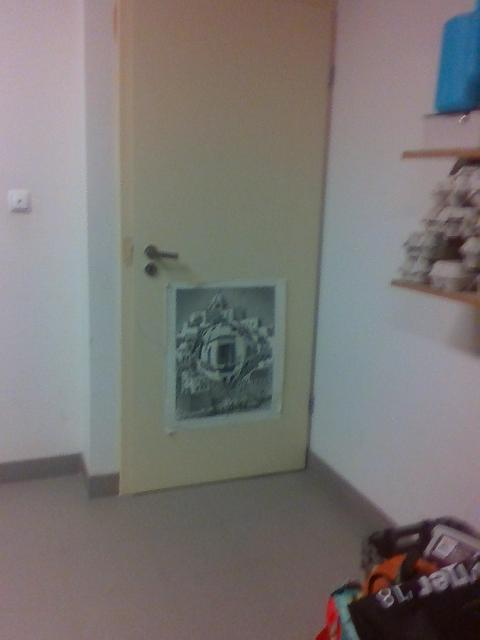door: (125, 3, 332, 487)
